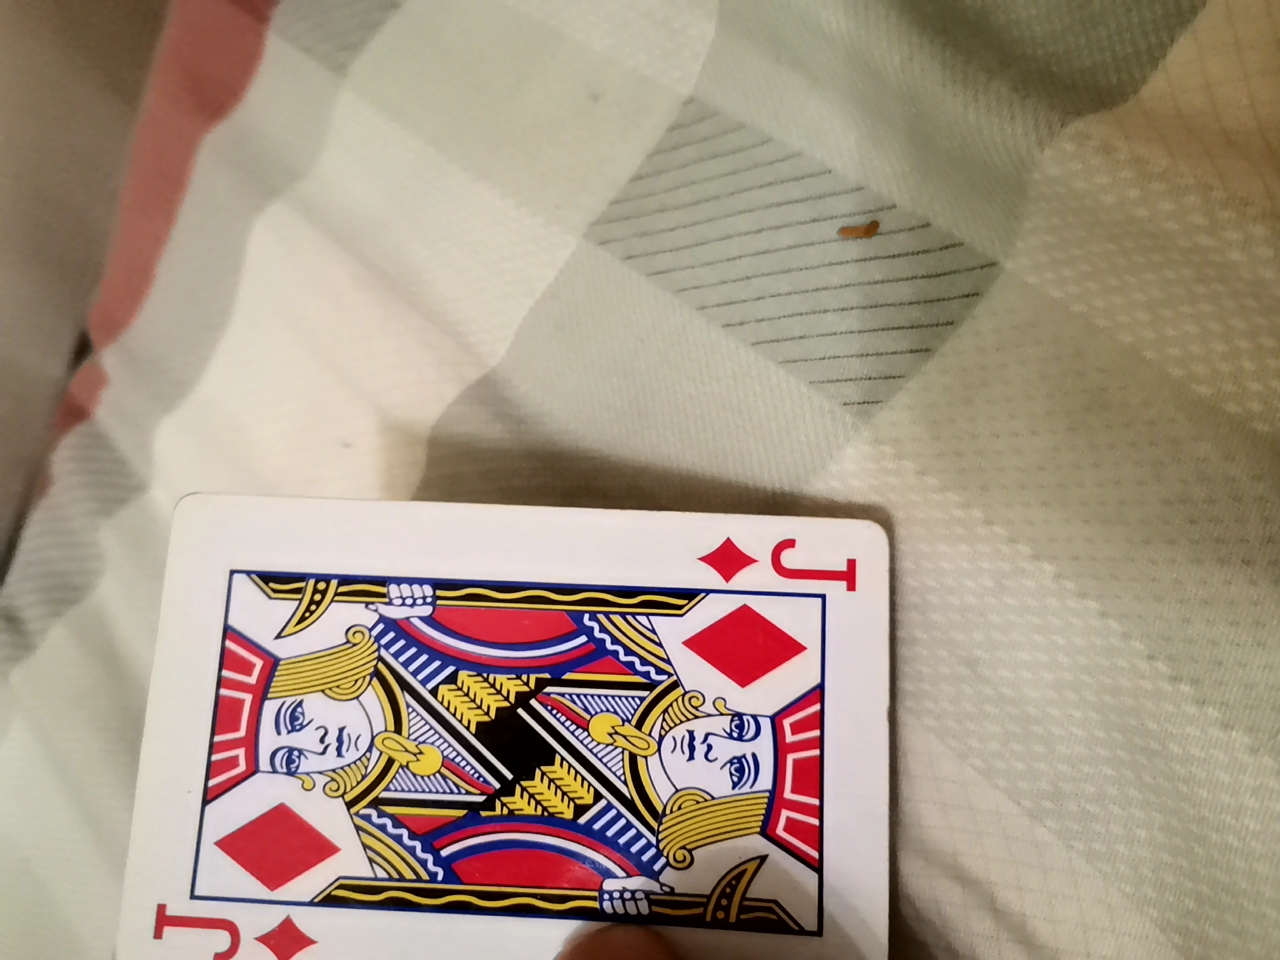fk j: (113, 500, 912, 952)
